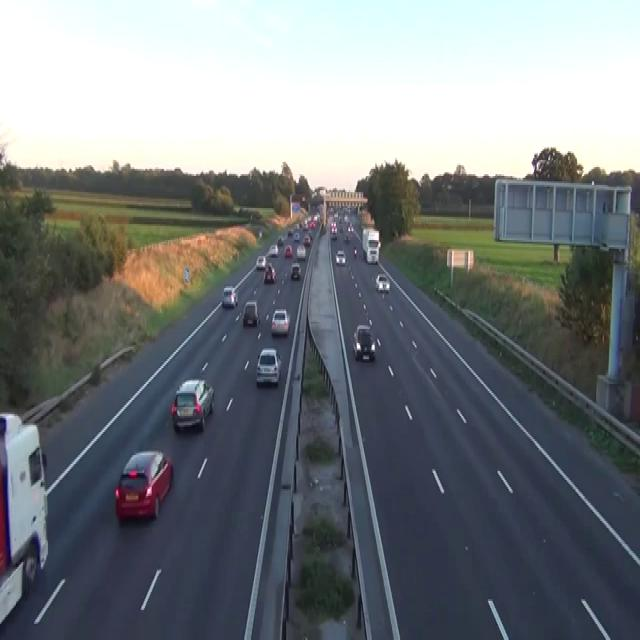Car: (114, 448, 173, 521), (170, 379, 214, 432), (255, 346, 281, 386), (352, 323, 375, 361), (271, 308, 289, 334), (242, 300, 260, 326), (222, 284, 238, 308), (375, 272, 390, 292), (366, 240, 379, 263), (263, 263, 276, 283), (290, 261, 300, 279), (335, 249, 345, 265), (296, 243, 305, 260), (256, 254, 266, 268), (268, 244, 278, 256), (302, 233, 311, 245), (284, 244, 292, 256), (330, 228, 337, 238), (301, 219, 308, 229), (347, 222, 353, 233), (293, 231, 300, 240), (277, 235, 283, 245), (321, 222, 326, 233), (344, 233, 350, 242), (353, 245, 357, 258), (309, 220, 315, 228), (287, 230, 293, 237), (314, 214, 319, 222), (343, 214, 348, 222), (258, 230, 262, 238), (378, 240, 381, 247)
Truck: (0, 410, 48, 626), (362, 228, 380, 263)
